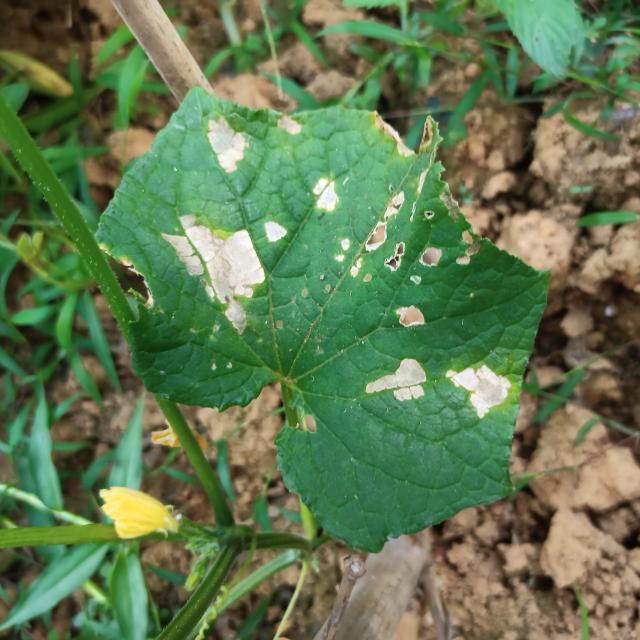disease_cucumber: (161, 105, 345, 346), (328, 192, 478, 346), (356, 348, 515, 434)
